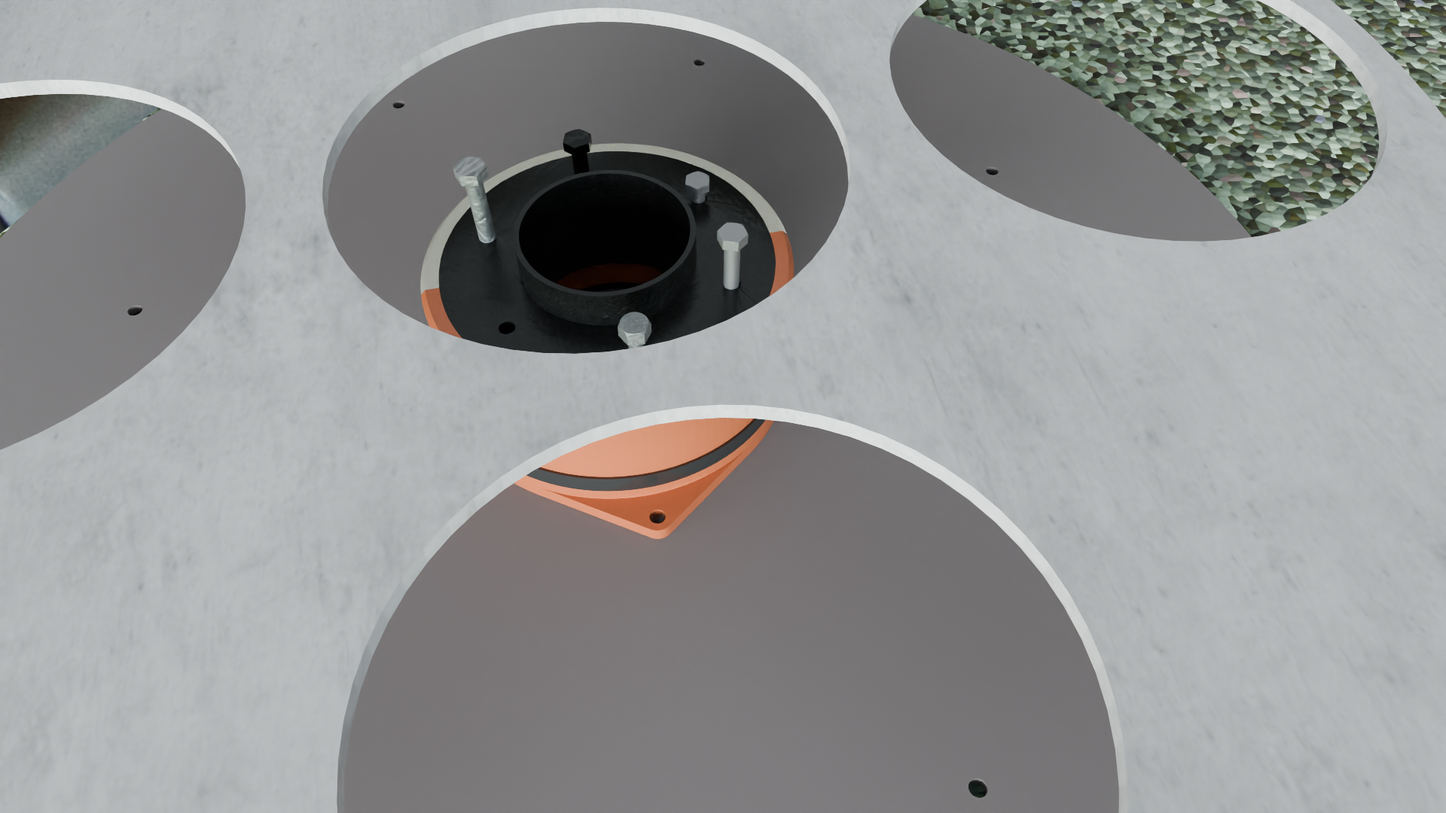bolt: (618, 312, 651, 337), (453, 157, 487, 177), (718, 223, 749, 244), (563, 129, 590, 148), (685, 171, 709, 189)
